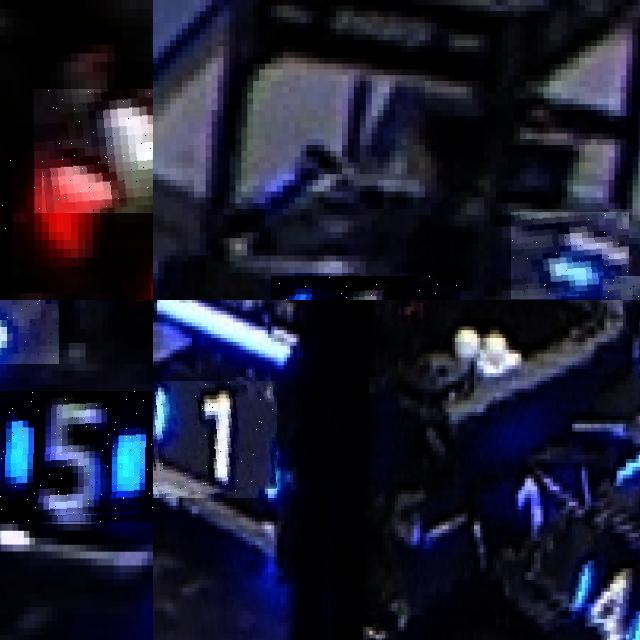B1: (153, 381, 277, 498), (511, 212, 629, 299), (270, 276, 460, 300)
B5: (0, 391, 153, 523)
R4: (34, 88, 153, 213)
